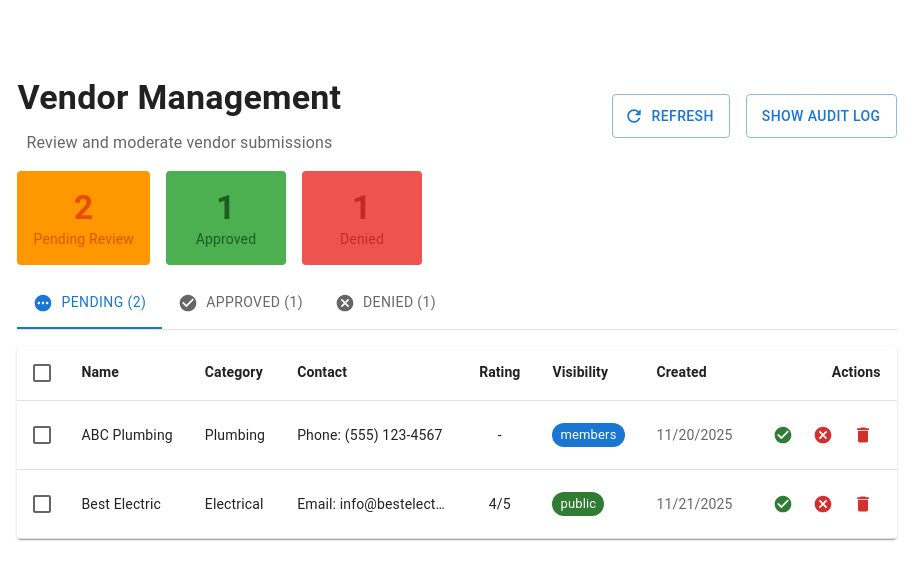
Scenario: VendorManagement - Role Gating › Admin Access › displays audit log when requested
Click the button "Show Audit Log" at (821, 116), box x1=746 y1=94 x2=896 y2=138
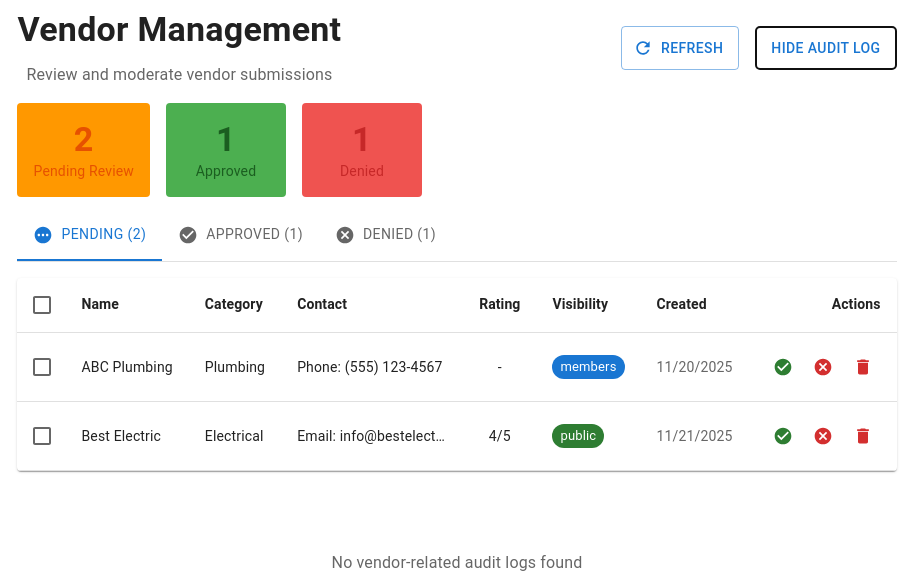
Expected: the text "No vendor-related audit logs found" is shown, x1=332 y1=553 x2=582 y2=572
